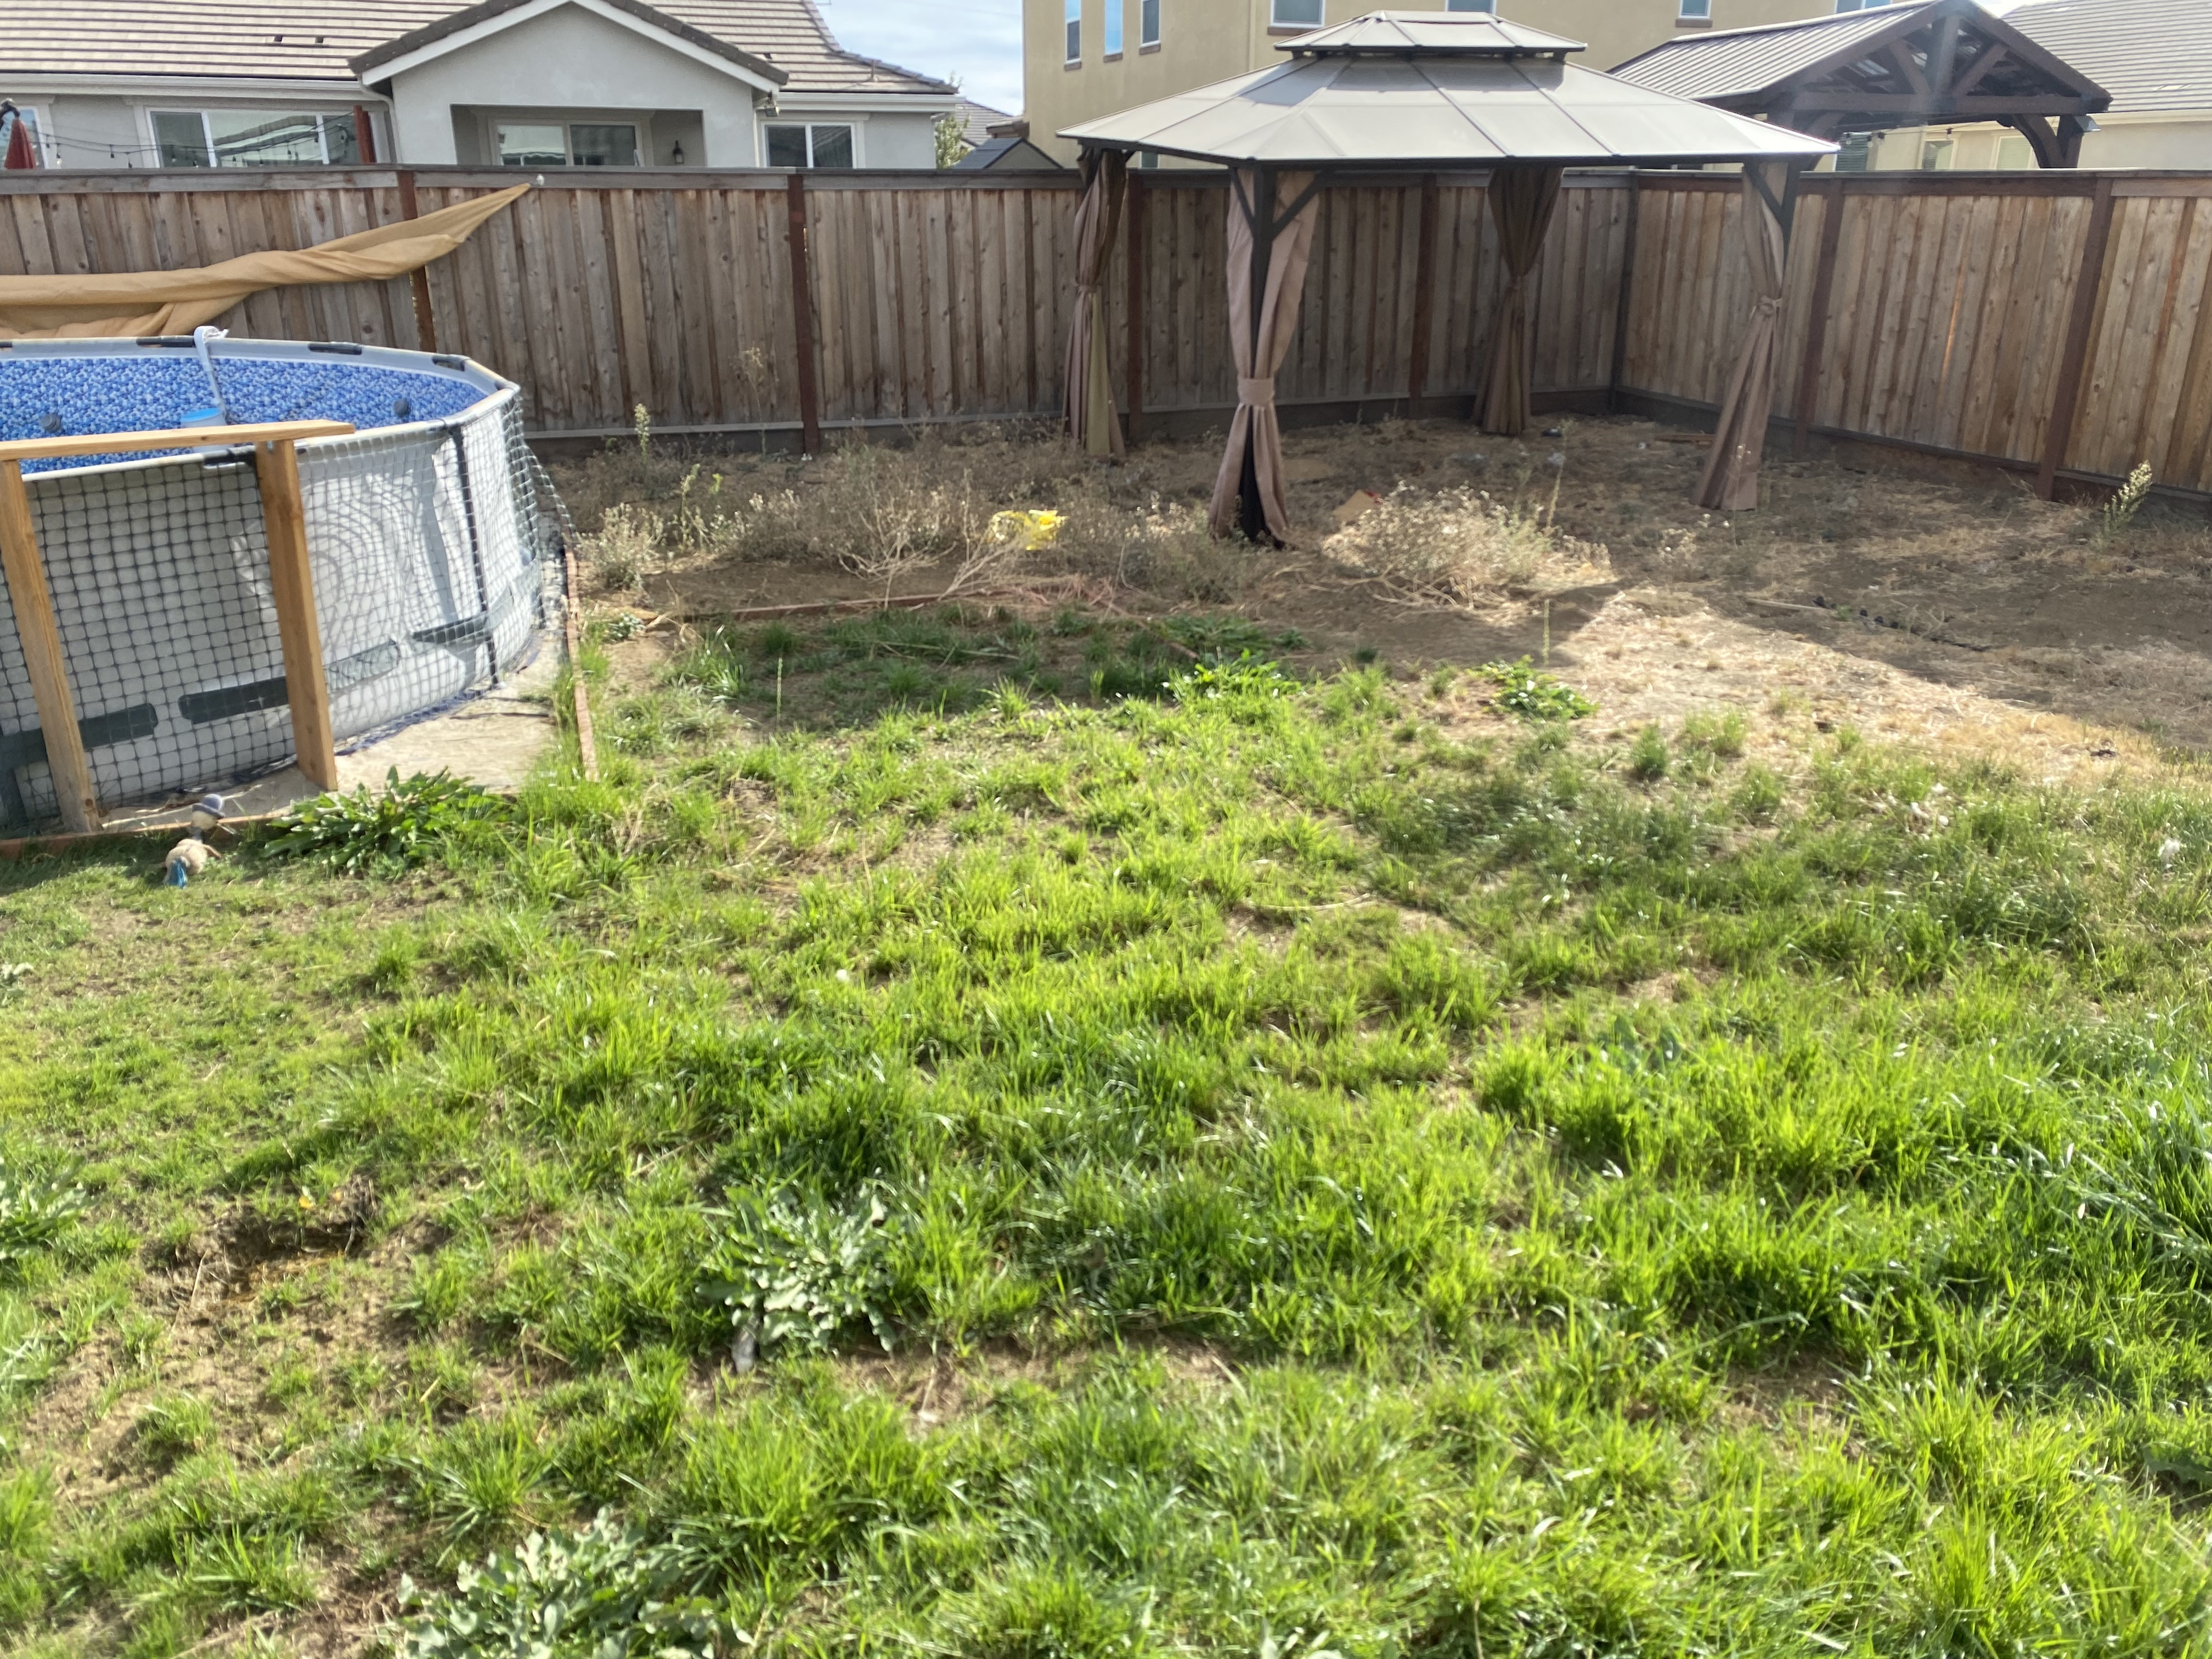weed: (374, 1504, 728, 1659), (685, 1201, 916, 1316), (268, 769, 489, 863)
